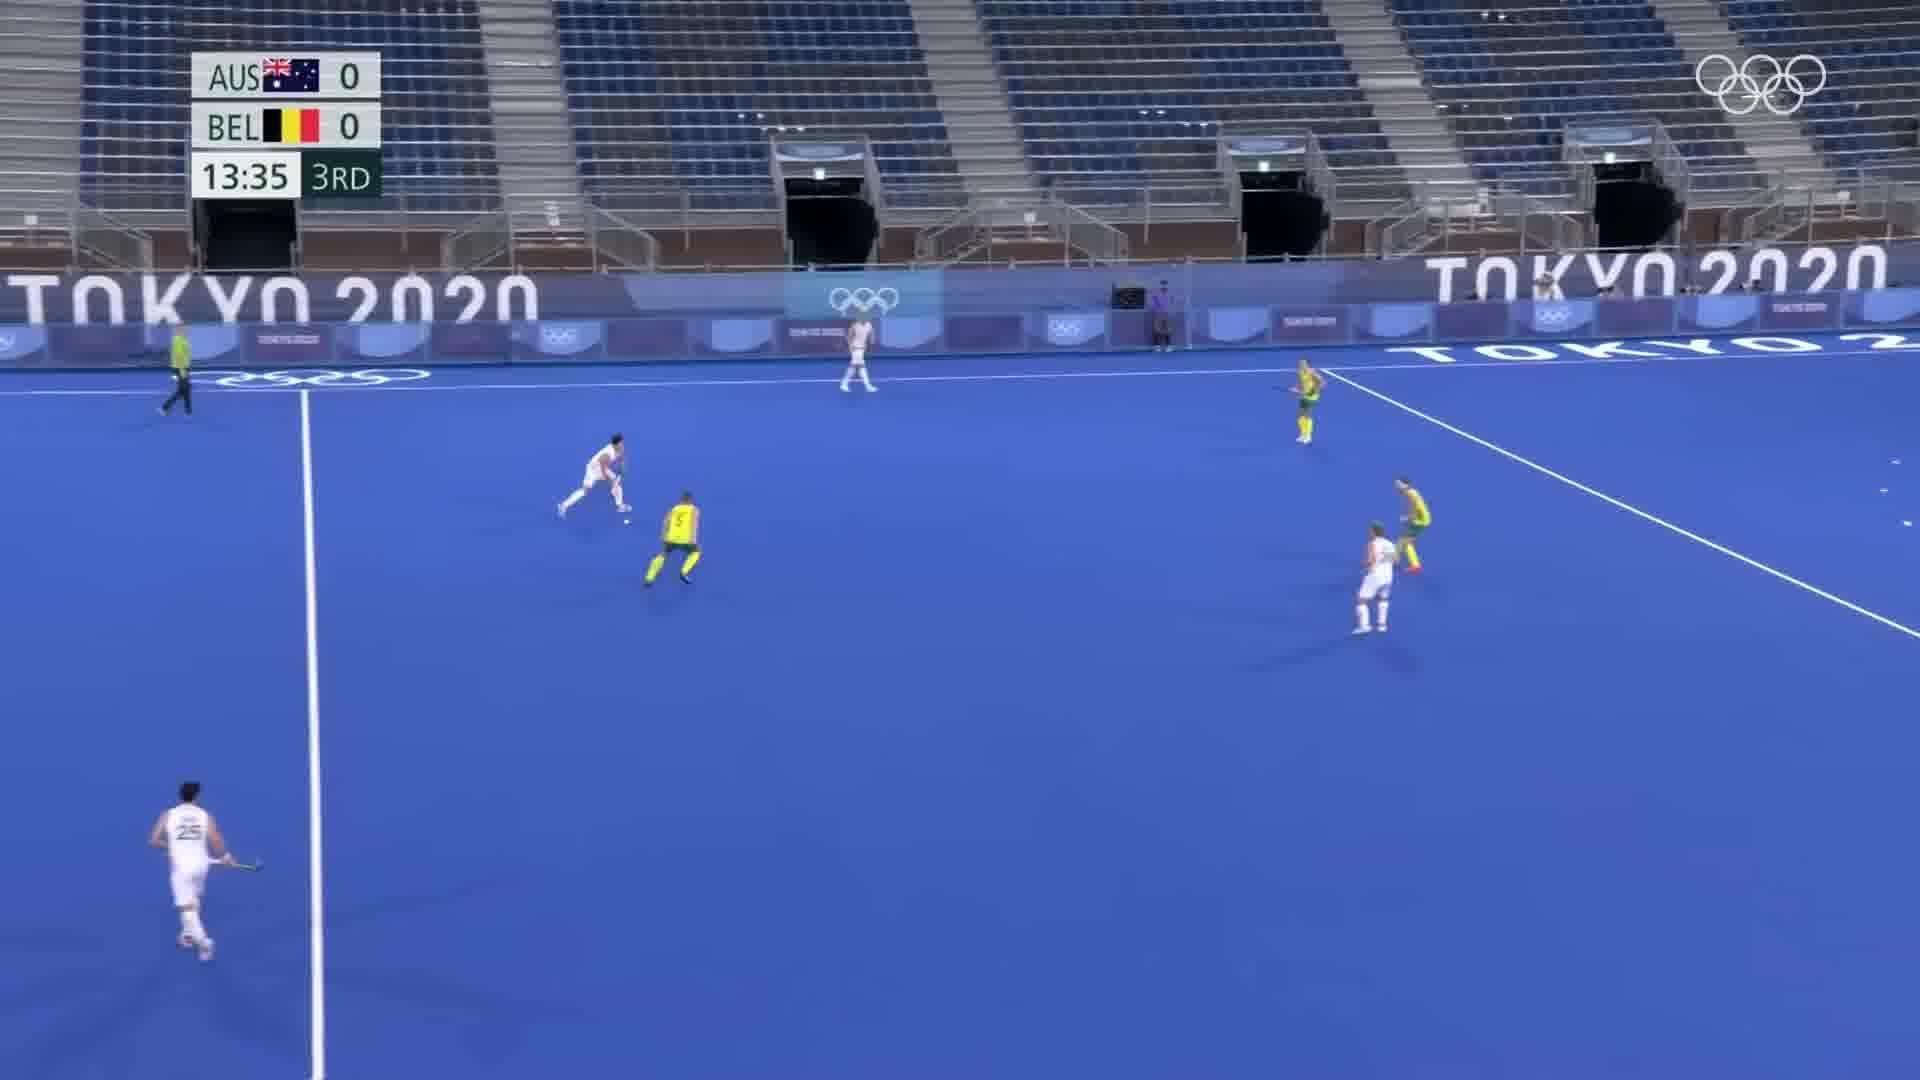ball: (620, 514, 630, 529)
